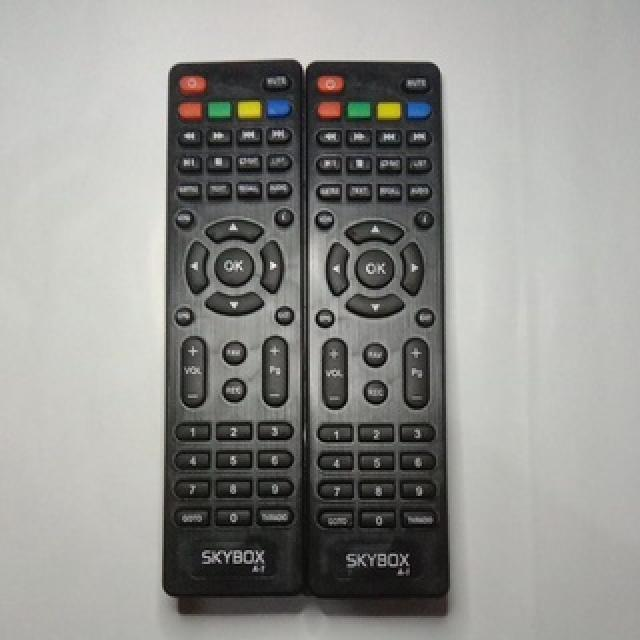remote: (164, 56, 302, 615), (311, 67, 451, 607)
